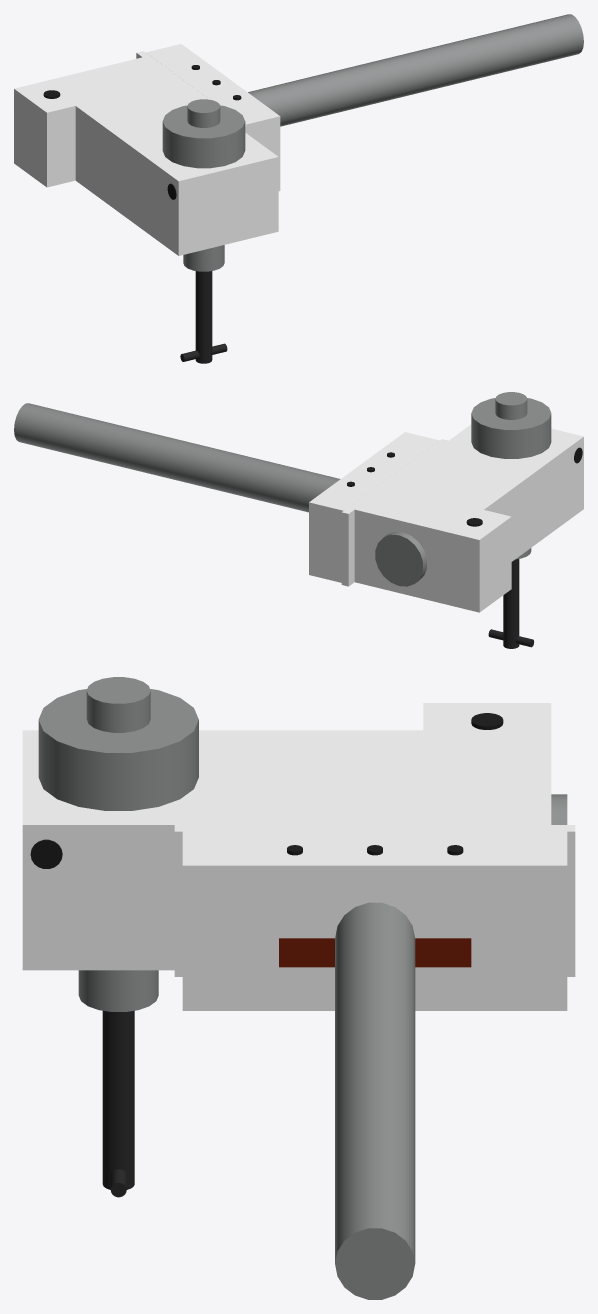
Rendered from tester.obj.
3 renders of one model, top to bottom at view 1: azimuth 30°, elevation 25°; view 2: azimuth 150°, elevation 25°; view 3: azimuth 270°, elevation 25°, orthographic. The views are drawn at different scales.
Parts seen in each view (by area): view 1: VBox058, VCyl028, VBox057, VCyl036, VExtr044, VExtr043, VCyl038, VCyl037, VCyl035, VBox056; view 2: VBox057, VCyl028, VBox058, VExtr043, VCyl036, VCyl029, VBox056, VExtr044, VCyl038, VCyl037; view 3: VBox058, VCyl028, VExtr044, VExtr043, VBox057, VCyl036, VCyl038, VBox056, VBox055, VCyl037, VCyl035.
Boxes of the visible parts, <box> form: VBox058: <box>75,81,278,255</box>; VCyl028: <box>248,14,583,126</box>; VBox057: <box>14,57,175,187</box>; VCyl036: <box>162,105,245,168</box>; VExtr044: <box>195,80,280,191</box>; VExtr043: <box>146,44,230,88</box>; VCyl038: <box>195,271,212,363</box>; VCyl037: <box>187,99,220,127</box>; VCyl035: <box>183,245,224,271</box>; VBox056: <box>136,51,246,132</box>; VBox057: <box>354,486,511,612</box>; VCyl028: <box>14,403,340,512</box>; VBox058: <box>387,424,583,561</box>; VExtr043: <box>309,467,391,582</box>; VCyl036: <box>471,398,551,458</box>; VCyl029: <box>375,532,426,586</box>; VBox056: <box>341,439,448,586</box>; VExtr044: <box>357,432,439,475</box>; VCyl038: <box>503,559,519,648</box>; VCyl037: <box>495,392,527,419</box>; VBox058: <box>22,730,423,970</box>; VCyl028: <box>335,902,415,1299</box>; VExtr044: <box>182,831,374,1010</box>; VExtr043: <box>375,831,567,1010</box>; VBox057: <box>423,703,551,824</box>; VCyl036: <box>38,689,198,810</box>; VCyl038: <box>102,1010,134,1189</box>; VBox056: <box>174,825,575,976</box>; VBox055: <box>279,938,471,967</box>; VCyl037: <box>86,677,150,732</box>; VCyl035: <box>78,970,158,1011</box>.
Size of the model in its own units: 72 by 34 by 34.5.
